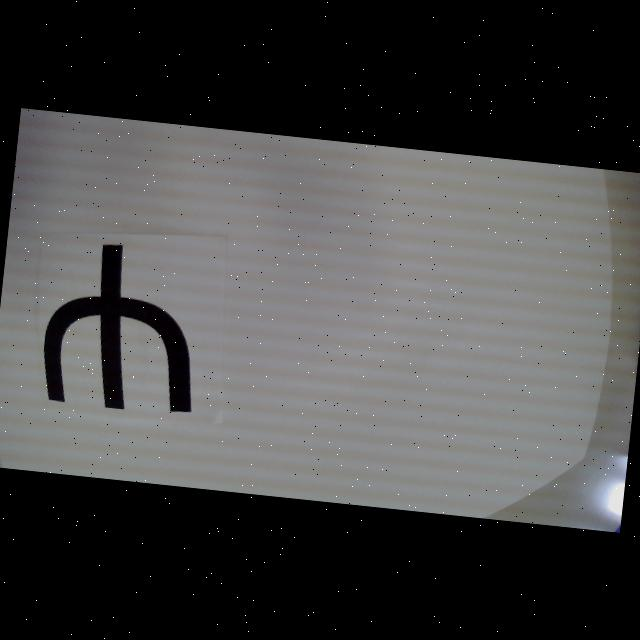PSI: (37, 236, 209, 416)
